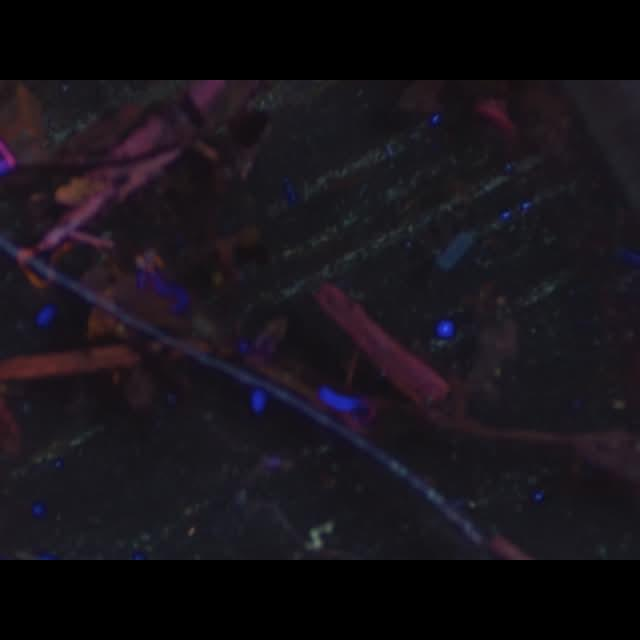Fibre: (304, 521, 334, 551)
